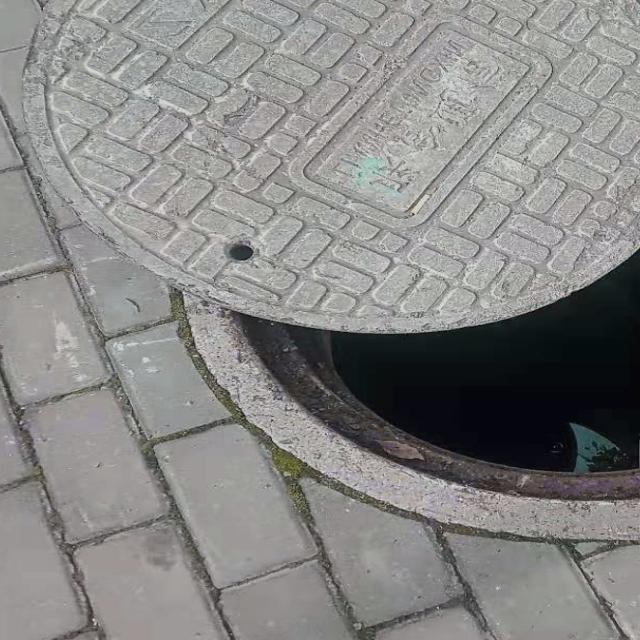uncovered: (15, 0, 640, 520)
